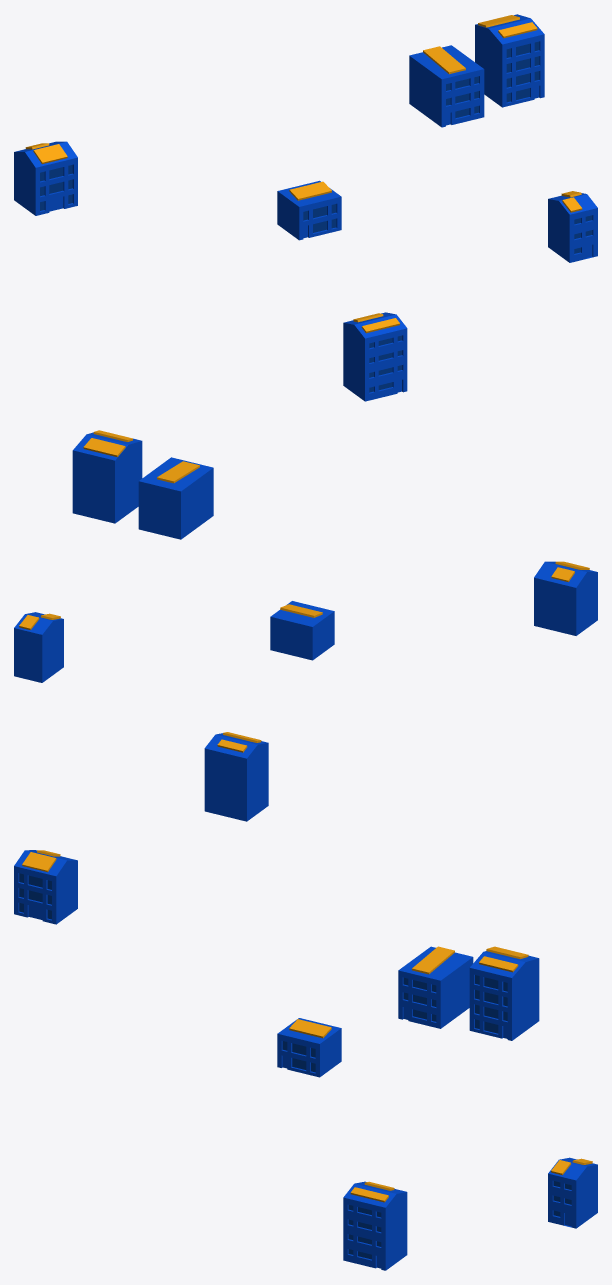
Rendered from BinaGrup10.gltf.
3 renders of one model, top to bottom at view 1: azimuth 30°, elevation 25°; view 2: azimuth 150°, elevation 25°; view 3: azimuth 330°, elevation 25°, orthographic.
Visible parts, largest first — view 1: Building_061.019, Building_072.017, Building_065.019, Building_023.019, Building_081.017, Building_052.019, Building_072.019, Building_065_RoofCap_0.004, Building_023.020, Building_065.020, Building_061.020; view 2: Building_072.017, Building_061.019, Building_065.019, Building_023.019, Building_081.017, Building_052.019; view 3: Building_072.017, Building_061.019, Building_065.019, Building_023.019, Building_081.017, Building_052.019, Building_072.019, Building_065_RoofCap_0.004, Building_023.020.
Boxes of the visible parts, box(x1,y1,x2,y2) form: Building_061.019: box(343, 312, 407, 401); Building_072.017: box(475, 14, 544, 107); Building_065.019: box(409, 45, 484, 127); Building_023.019: box(14, 141, 77, 215); Building_081.017: box(548, 193, 597, 262); Building_052.019: box(277, 180, 341, 240); Building_072.019: box(506, 41, 539, 102); Building_065_RoofCap_0.004: box(423, 46, 465, 74); Building_023.020: box(40, 165, 72, 210); Building_065.020: box(446, 76, 478, 118); Building_061.020: box(369, 335, 401, 392); Building_072.017: box(72, 432, 142, 523); Building_061.019: box(204, 733, 268, 821); Building_065.019: box(138, 457, 213, 539); Building_023.019: box(534, 561, 597, 635); Building_081.017: box(14, 612, 63, 682); Building_052.019: box(270, 601, 334, 660); Building_072.017: box(469, 951, 539, 1040); Building_061.019: box(343, 1181, 407, 1270); Building_065.019: box(398, 946, 473, 1028); Building_023.019: box(14, 850, 77, 924); Building_081.017: box(548, 1157, 597, 1228); Building_052.019: box(277, 1018, 341, 1077); Building_072.019: box(475, 975, 507, 1033); Building_065_RoofCap_0.004: box(412, 946, 454, 974); Building_023.020: box(19, 873, 51, 919).
Size of the model in its own units: 0.6495 by 0.3705 by 0.0652.
